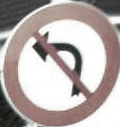Don't turn left: (7, 4, 115, 121)
